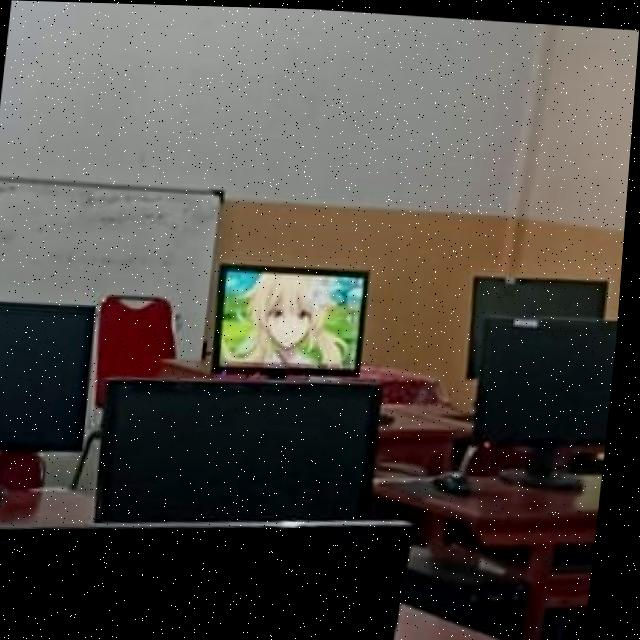offscreen: (0, 521, 417, 640), (104, 378, 385, 519), (481, 317, 622, 438), (0, 303, 98, 447)
onscreen: (221, 263, 372, 372)
